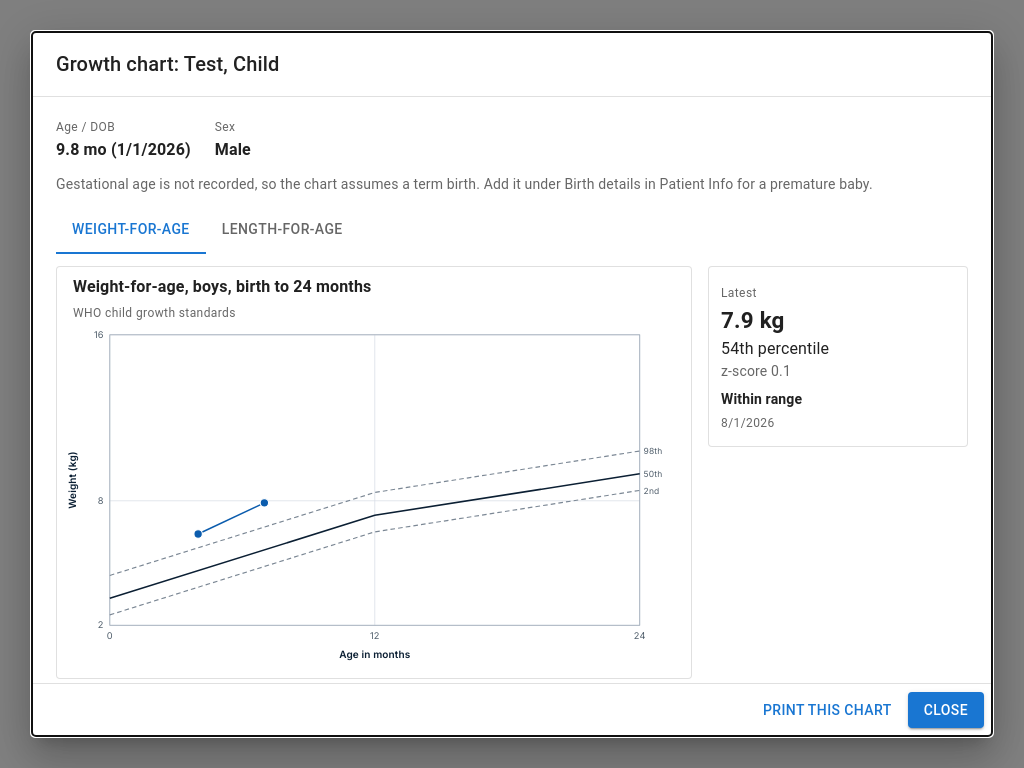
it: tabs switch between charts and an empty chart says what to do
Expected: the picture with test id "gc-svg-who_weight_for_age" is shown, [65,324,683,664]
Click the tab with test id "gc-tab-who_length_for_age": (282, 230) [206,206,359,254]
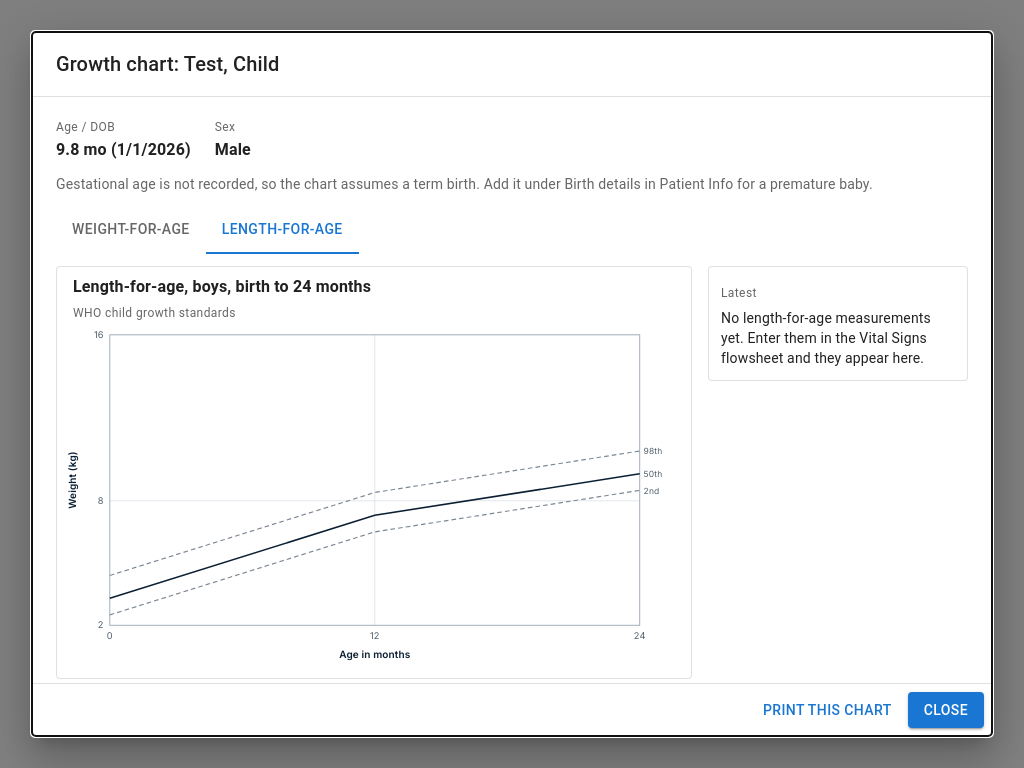
Now the picture with test id "gc-svg-who_length_for_age" is shown, box [65,324,683,664]
Now the text with test id "gc-empty" shows "Vital Signs flowsheet", box [721,310,931,366]
